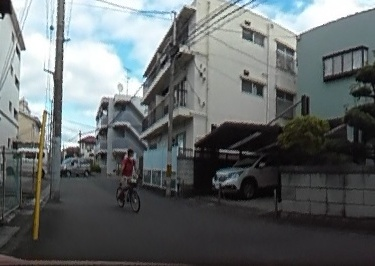person: (119, 147, 136, 198)
